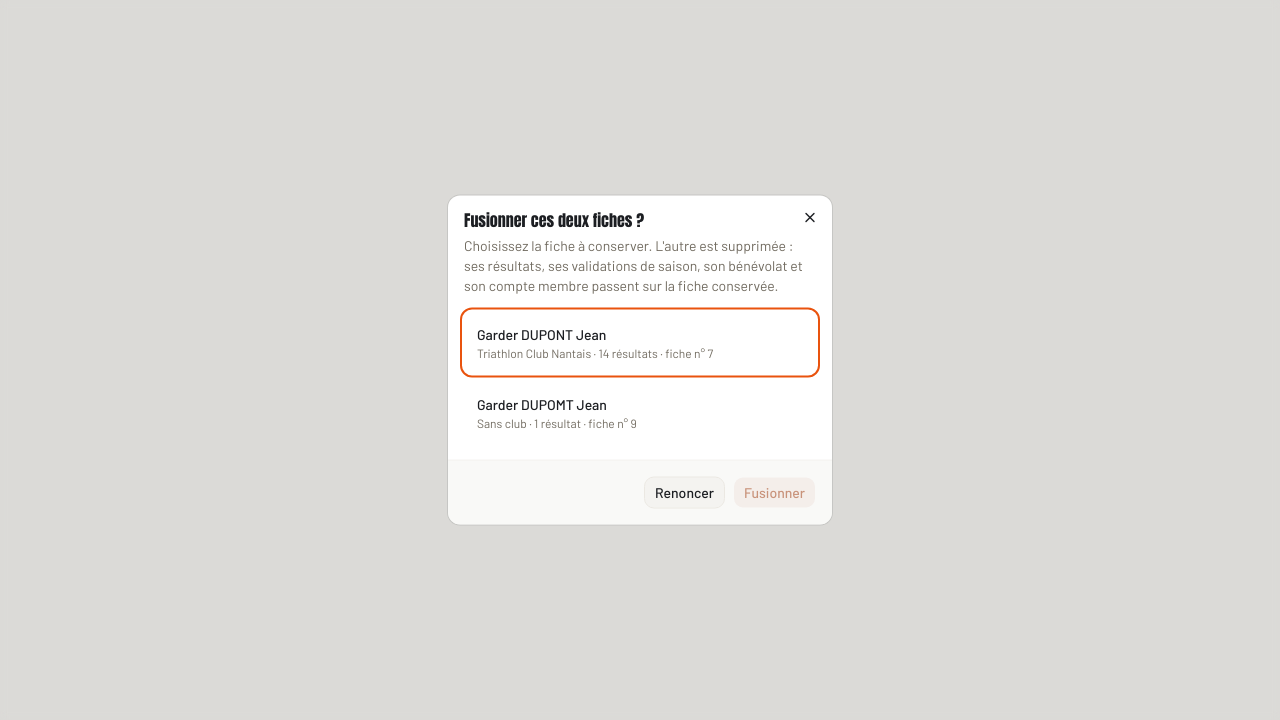
it: MergeAthletesDialog › l'aperçu montre la date de naissance de chaque fiche, qui départage deux homonymes
Click the radio button labelled "Garder DUPONT Jean". click: point(640, 342)
box: [464,312,816,374]
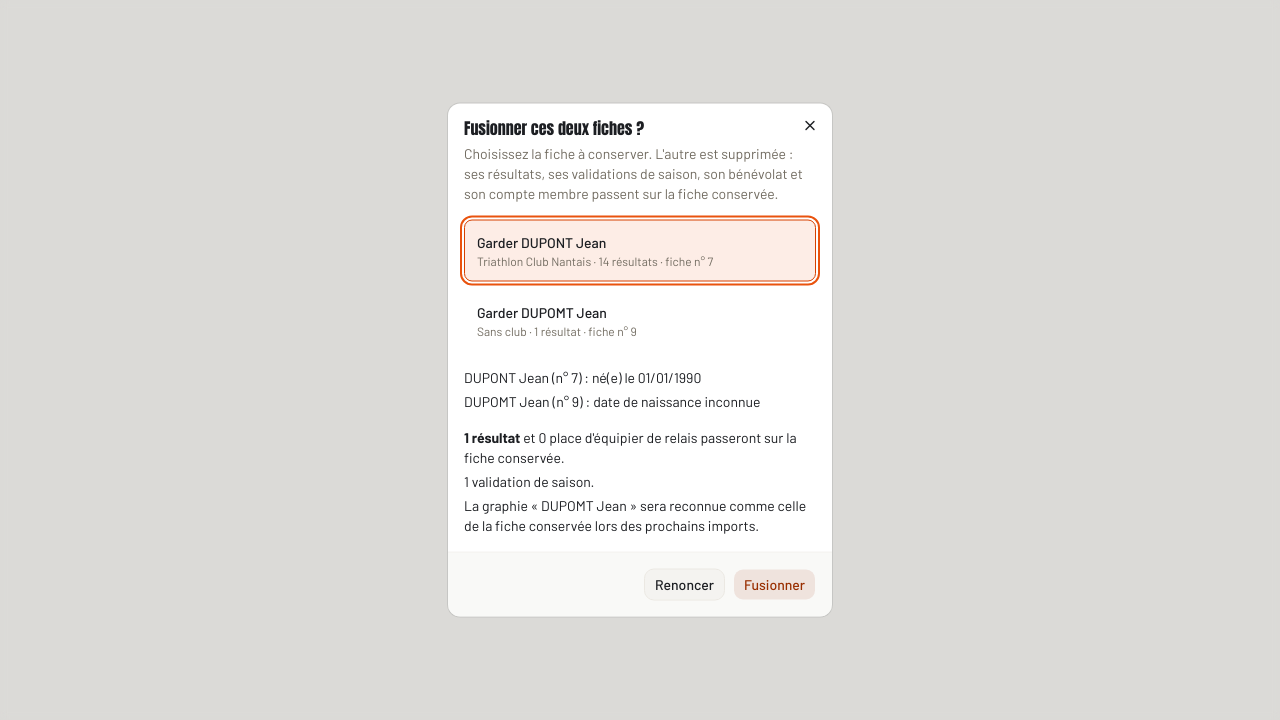
expect the list item "DUPONT Jean (n° 7) : né(e) le 01/01/1990" is shown: met, box [464,368,701,386]
expect the list item "DUPOMT Jean (n° 9) : date de naissance inconnue" is shown: met, box [464,392,760,410]
